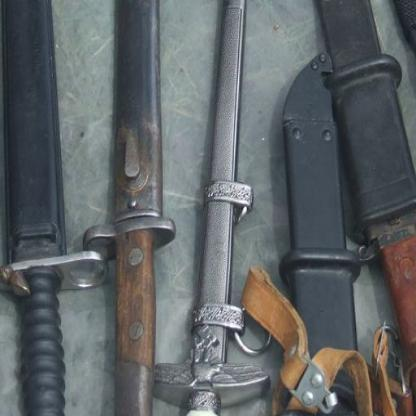knife: (303, 0, 415, 415), (271, 41, 394, 415)
